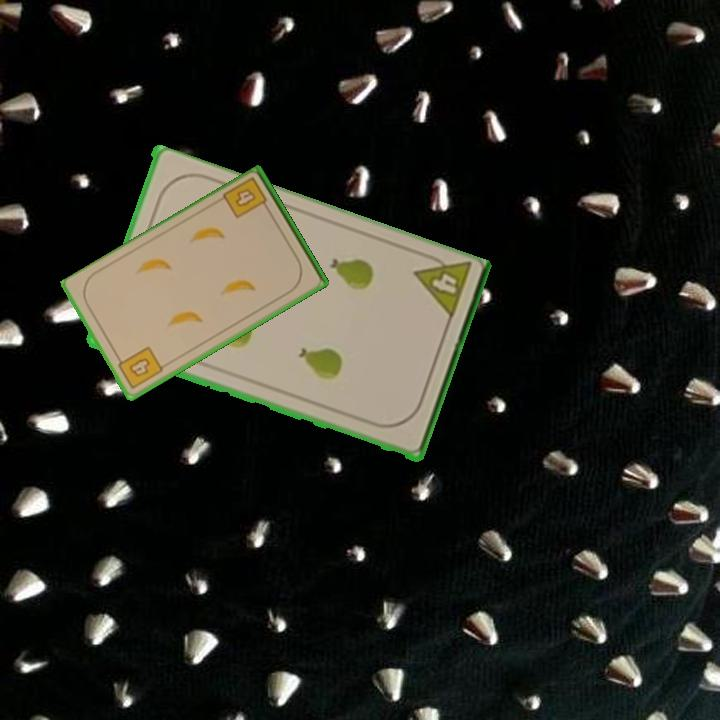4b: (113, 343, 166, 392), (220, 174, 273, 222)
4p: (409, 248, 474, 325)
